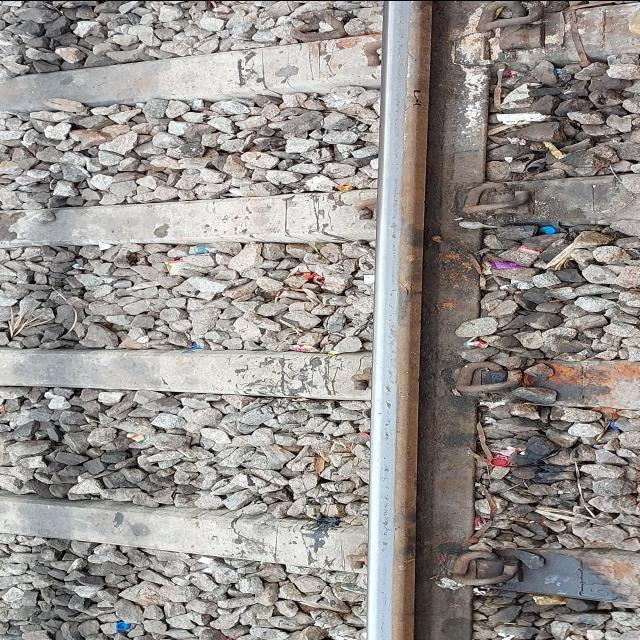broken_rail_medium: (386, 310, 396, 352), (390, 178, 400, 219), (396, 280, 409, 298), (393, 91, 403, 113), (380, 461, 390, 481), (380, 516, 390, 535), (391, 118, 401, 137), (381, 561, 388, 585), (389, 221, 398, 239), (382, 502, 392, 516), (396, 66, 404, 83), (383, 428, 392, 443), (397, 2, 406, 17), (396, 51, 405, 65), (389, 244, 397, 258), (383, 369, 393, 379), (381, 594, 389, 606), (390, 163, 399, 172), (384, 399, 392, 409), (379, 620, 385, 632), (392, 149, 400, 158), (384, 418, 392, 426), (386, 355, 395, 362), (397, 33, 406, 40), (395, 19, 405, 25), (384, 385, 392, 392), (396, 43, 404, 50), (380, 494, 389, 500), (387, 302, 394, 308), (383, 411, 389, 417), (380, 541, 388, 545), (383, 485, 391, 489), (396, 27, 404, 31), (380, 612, 386, 617), (380, 547, 386, 552), (385, 292, 394, 295), (381, 555, 389, 558), (389, 380, 395, 384), (380, 589, 385, 593), (377, 638, 386, 640), (391, 289, 399, 291), (394, 86, 398, 90), (385, 482, 392, 484), (381, 537, 387, 539), (377, 412, 382, 414), (380, 634, 384, 636), (375, 459, 379, 461), (385, 393, 389, 395), (391, 279, 395, 281), (389, 48, 393, 50), (396, 41, 400, 43), (383, 456, 386, 458), (376, 466, 379, 468), (374, 362, 377, 364), (387, 446, 389, 448)
